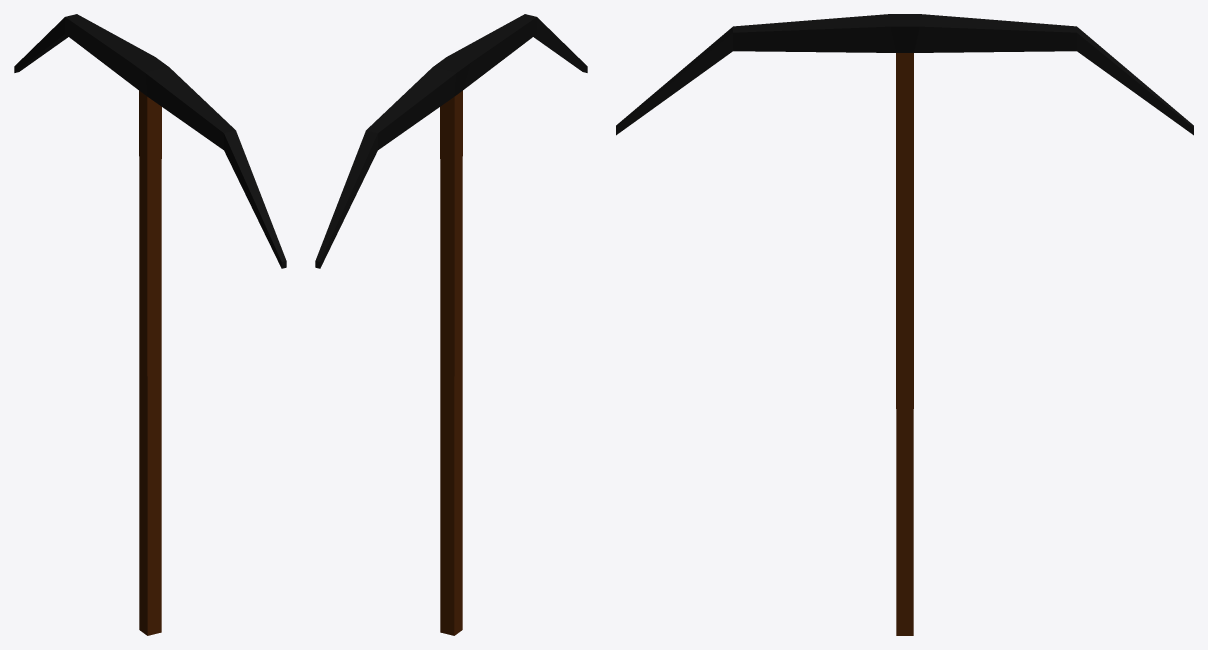
Rendered from pickaxe.fbx.
3 renders of one model, left to right at view 1: azimuth 30°, elevation 25°; view 2: azimuth 150°, elevation 25°; view 3: azimuth 270°, elevation 25°, orthographic. The views are drawn at different scales.
Parts seen in each view (by area): view 1: Куб; view 2: Куб; view 3: Куб.
Part boxes in pixels (x1=…): Куб: x1=14, y1=14, x2=286, y2=635; Куб: x1=315, y1=14, x2=587, y2=635; Куб: x1=616, y1=14, x2=1193, y2=635.
Size of the model in its own units: 0.0406 by 0.9178 by 0.7854.
